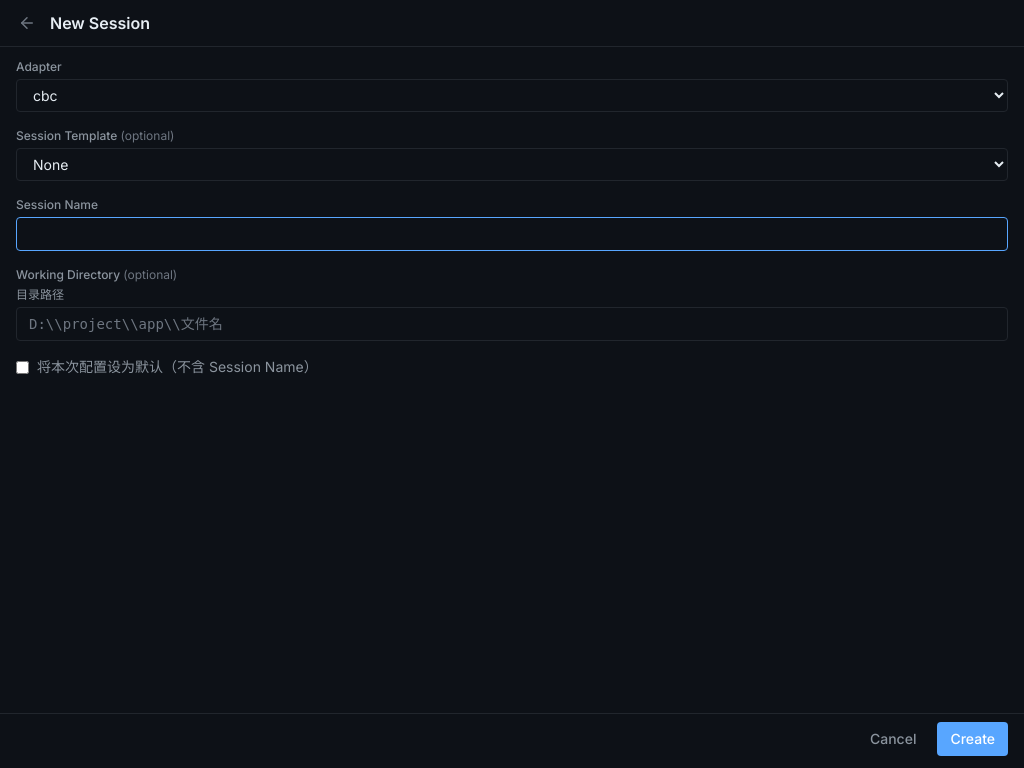
it: New Session directory input › shows the exact invalid-directory message for a missing search base
Expected: the button "Create" is enabled, [937,722,1008,756]
In the field with test id "new-session-workdir-input": (512, 324) [16,307,1008,341], type "D:\\missing\\app"
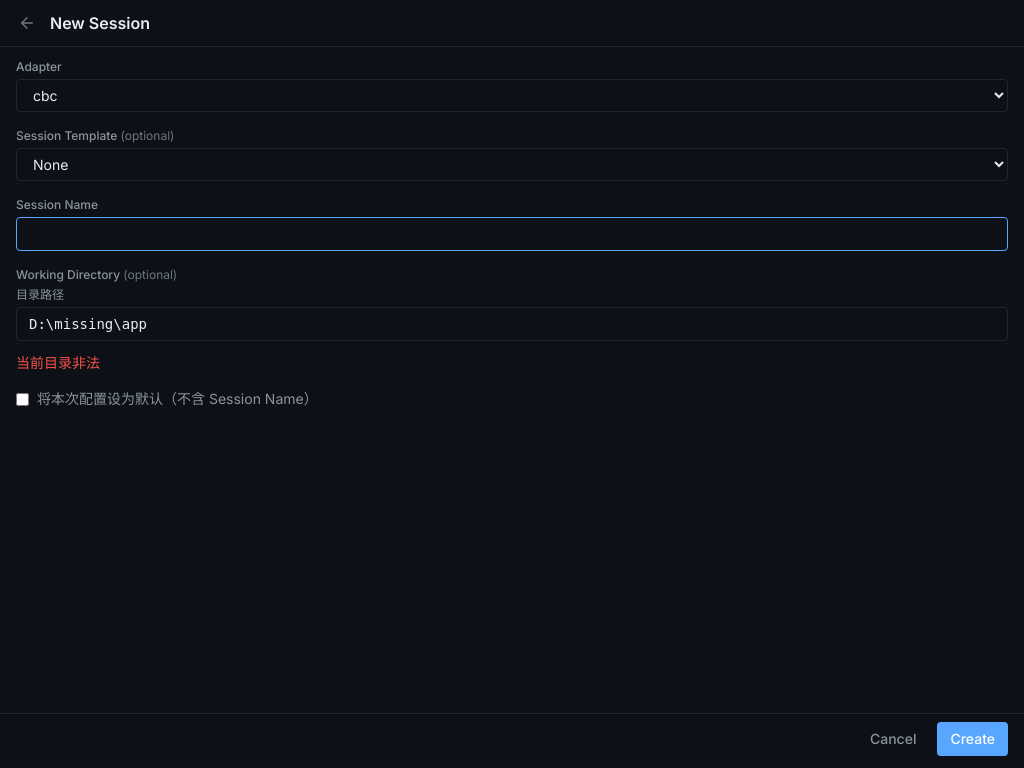
Now the text with test id "directory-error" reads "当前目录非法", box [16,354,100,371]
